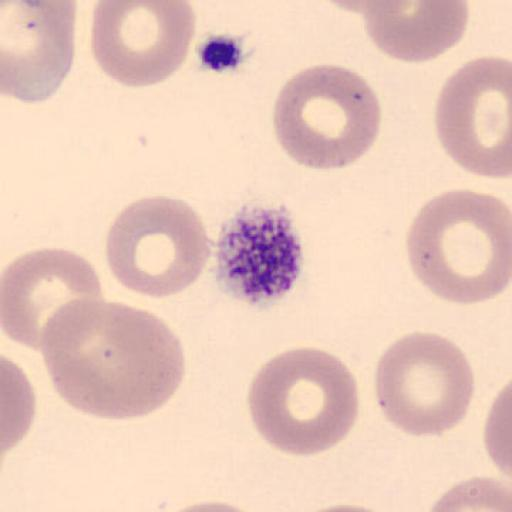Platelet: (211, 202, 307, 307), (194, 29, 258, 75)
RBC: (39, 298, 187, 422), (245, 346, 361, 458), (405, 188, 511, 306), (270, 63, 383, 171), (38, 297, 132, 420), (104, 194, 213, 300), (372, 330, 476, 439), (1, 247, 104, 351), (434, 54, 512, 178), (88, 0, 196, 89), (0, 0, 78, 106), (360, 0, 471, 65), (1, 355, 37, 456), (485, 384, 512, 508), (425, 475, 512, 512), (483, 380, 512, 477), (314, 0, 418, 20), (155, 500, 269, 512), (291, 502, 399, 512)
